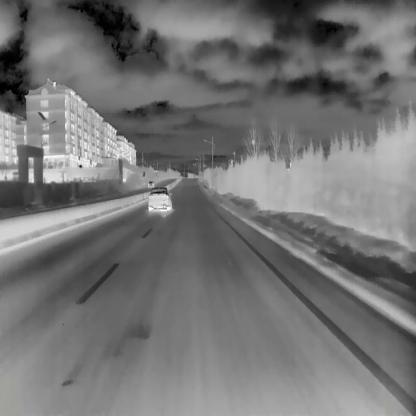car: (147, 186, 171, 210), (147, 178, 154, 188)
